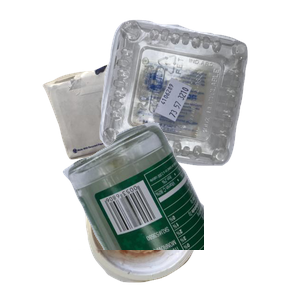glass: (60, 120, 300, 300)
paper: (40, 35, 249, 187)
plastic: (97, 17, 300, 176)
trash: (83, 163, 276, 300)
